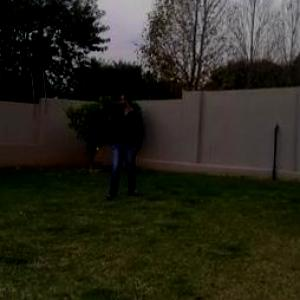follow: (109, 89, 137, 198)
